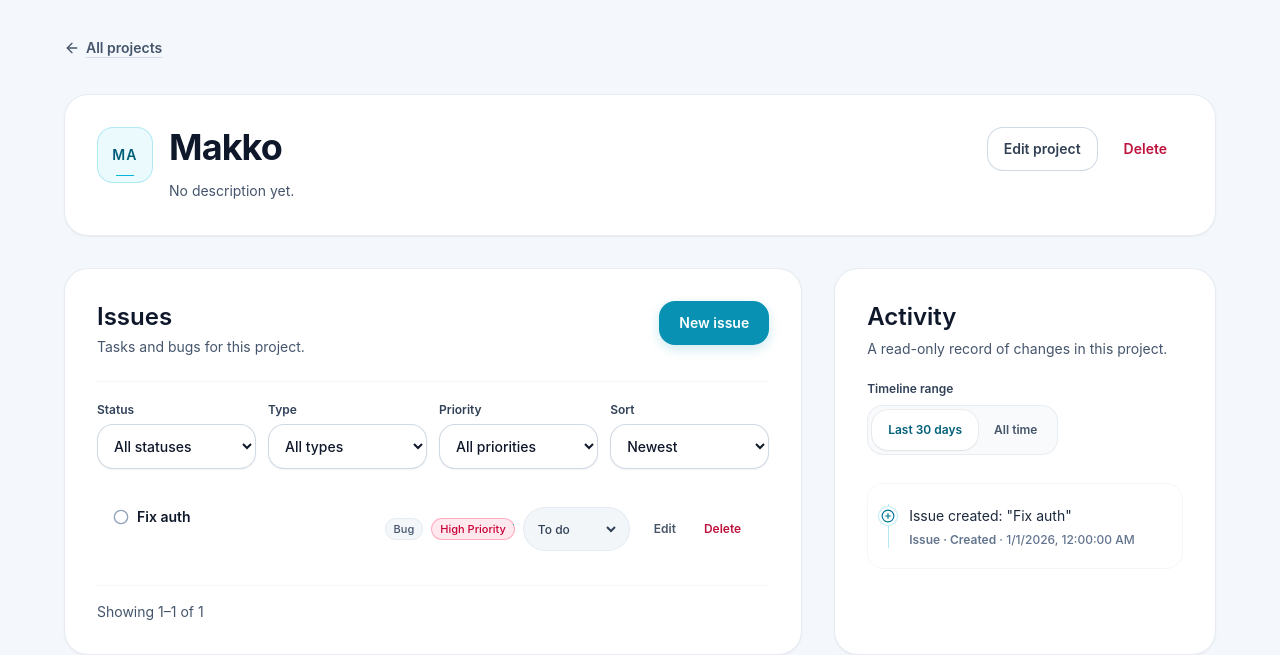
Test: ProjectDetailPage › closes the create form before opening an issue editor
Expected: the picture named "Makko project identity" is shown, [97,127,153,183]
Step 1. Click the button "New issue" → (714, 323), box [659,301,769,345]
(page scrolled)
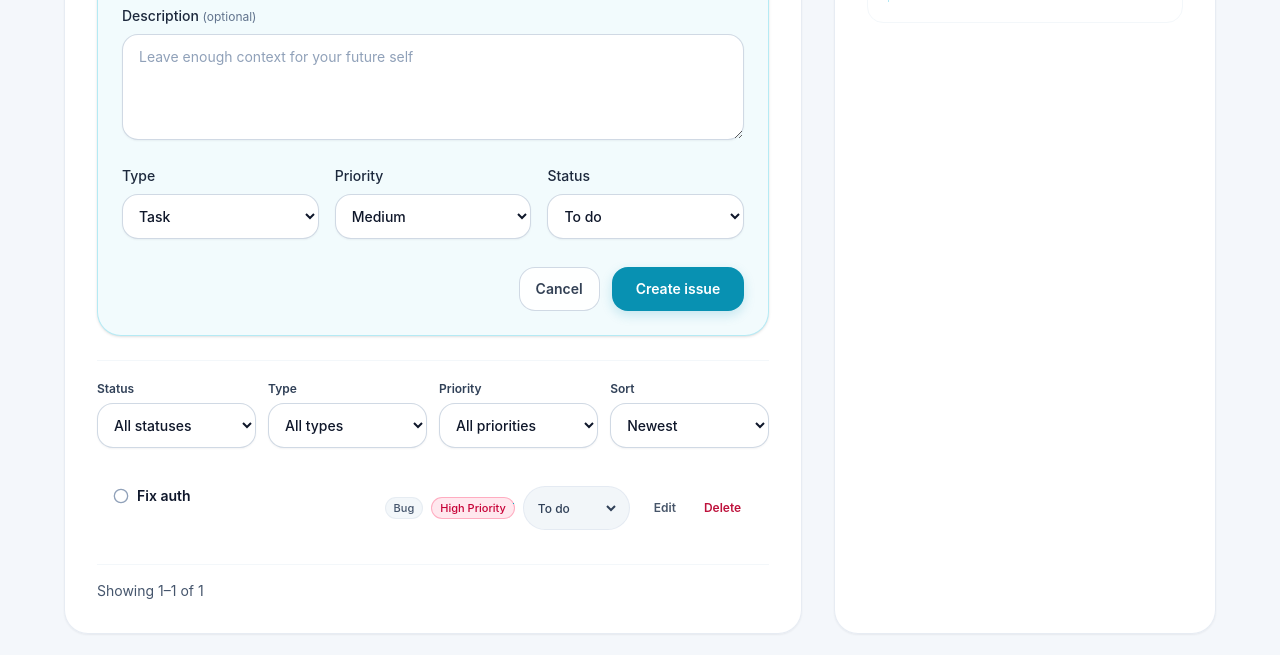
Step 2. Click the button "Edit" → (665, 508), box [642,486,688,530]
(page scrolled)
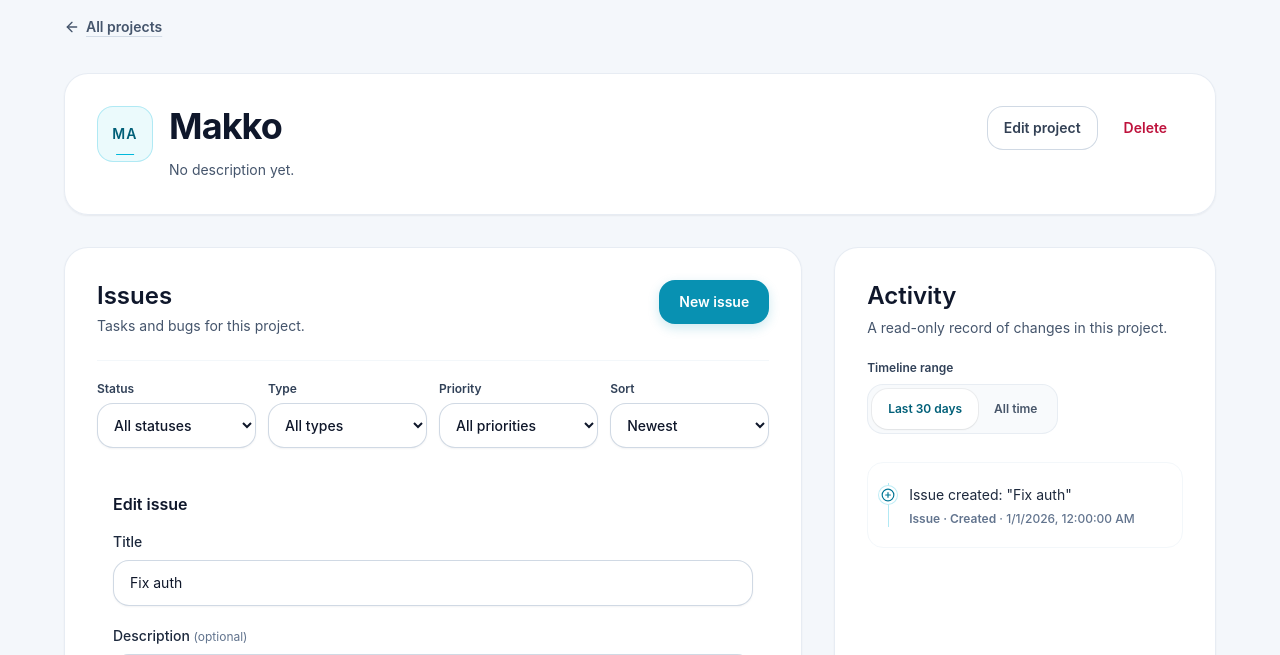
Result: the number of fields labelled "Title" is 1 at [113,560,753,606]
Result: the heading "Edit issue" is shown at [113,494,188,514]
